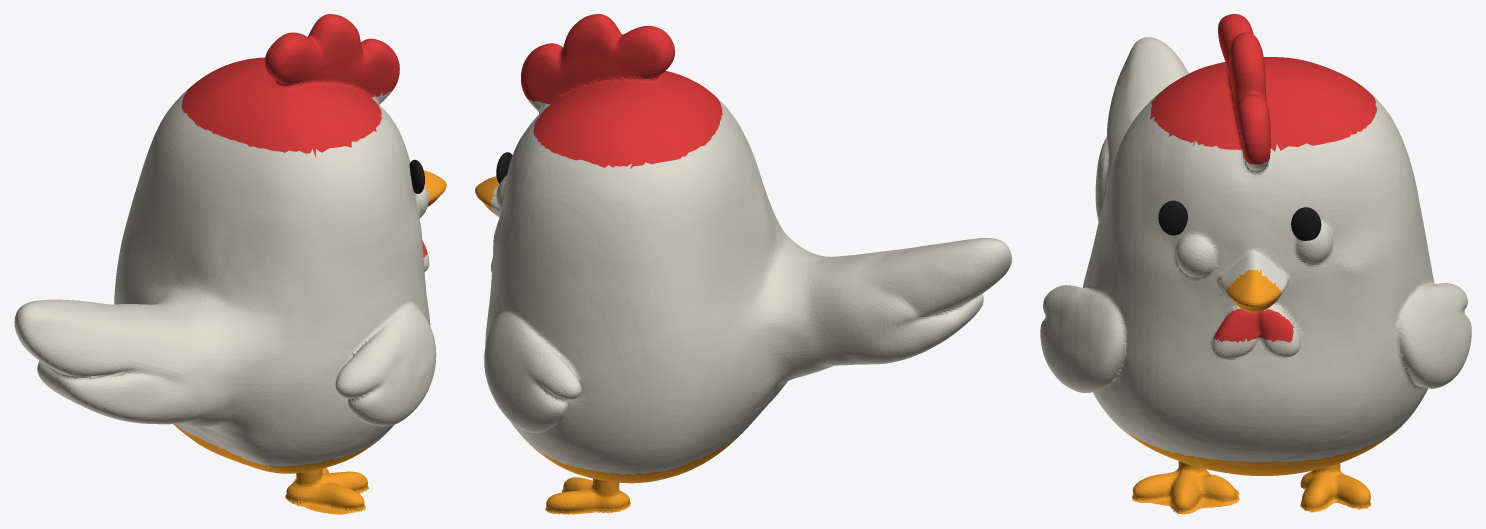
File: gallina.glb
The picture shows the model from 3 angles, left to right: view 1: azimuth 30°, elevation 25°; view 2: azimuth 150°, elevation 25°; view 3: azimuth 270°, elevation 25°; orthographic projection. The views are drawn at different scales.
Parts seen in each view (by area): view 1: Mesh_0; view 2: Mesh_0; view 3: Mesh_0, Sphere.001, Sphere.
Part boxes in pixels (x1,y1,x2,y2): Mesh_0: [14, 14, 446, 514]; Mesh_0: [475, 14, 1011, 514]; Mesh_0: [1040, 14, 1471, 514]; Sphere.001: [1291, 207, 1321, 240]; Sphere: [1158, 200, 1187, 235].
Size of the model in its own units: 0.6088 by 0.55 by 0.4499.
